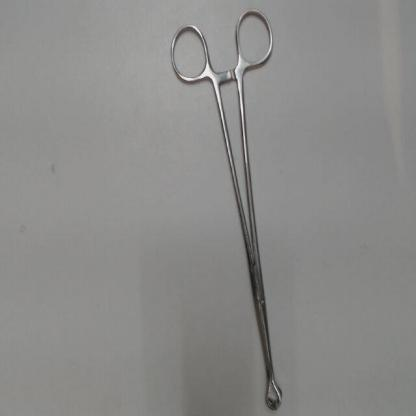8 Babcock Tissue Forceps: (163, 1, 290, 413)
